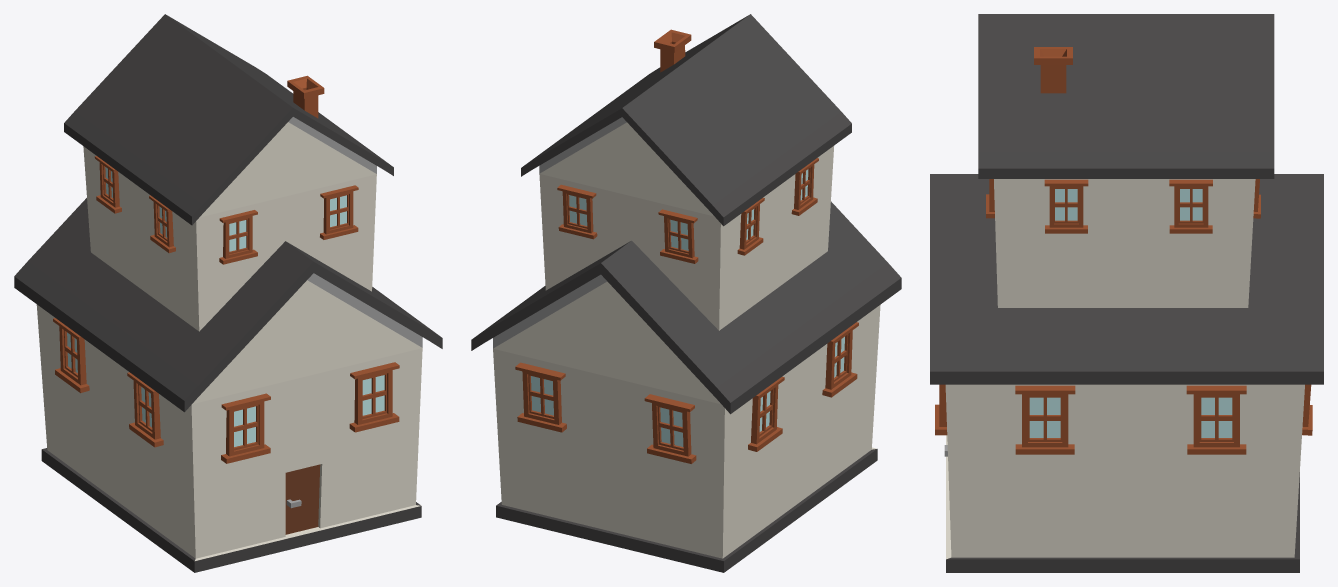
File: House3.glb
3 renders of one model, left to right at view 1: azimuth 30°, elevation 25°; view 2: azimuth 150°, elevation 25°; view 3: azimuth 270°, elevation 25°, orthographic. The views are drawn at different scales.
Visible parts, largest first — view 1: House3; view 2: House3; view 3: House3.
Boxes of the visible parts, box(x1,y1,x2,y2) form: House3: box(14, 14, 442, 572); House3: box(471, 14, 901, 572); House3: box(930, 14, 1323, 572).
Size of the model in its own units: 1.25 by 1.99 by 1.43.
